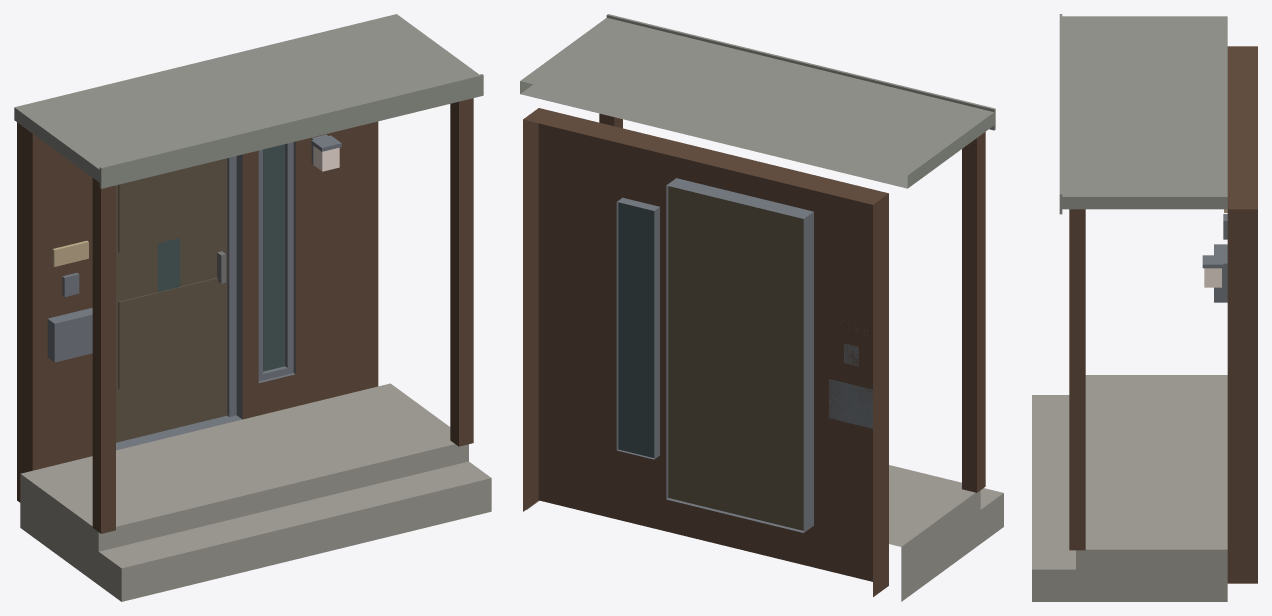
File: entrance_close.fbx
3 renders of one model, left to right at view 1: azimuth 30°, elevation 25°; view 2: azimuth 150°, elevation 25°; view 3: azimuth 270°, elevation 25°, orthographic. The views are drawn at different scales.
Visible parts, largest first — view 1: a2000s3/800/entrance_close; view 2: a2000s3/800/entrance_close; view 3: a2000s3/800/entrance_close.
Boxes of the visible parts, left/top/right/bottom form: a2000s3/800/entrance_close: left=14, top=14, right=491, bottom=601; a2000s3/800/entrance_close: left=520, top=14, right=1003, bottom=601; a2000s3/800/entrance_close: left=1032, top=14, right=1257, bottom=601.
Bounding box in the file's own units: 3.1 × 3.29 × 1.64.
